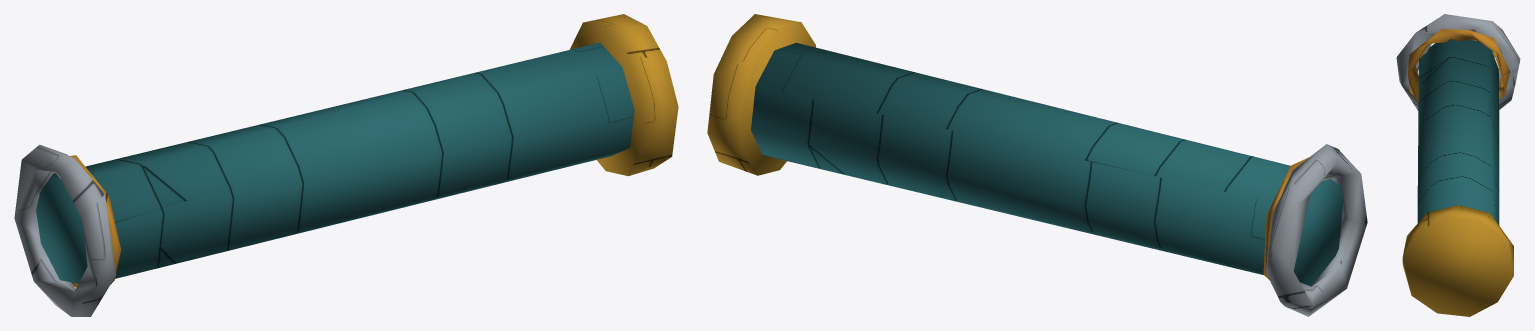
File: pressure_pipe_capped_end_lod2.glb
3 views of the same model, side by side, from view 1: azimuth 30°, elevation 25°; view 2: azimuth 150°, elevation 25°; view 3: azimuth 270°, elevation 25° (orthographic). The views are drawn at different scales.
Parts seen in each view (by area): view 1: LOD2_Armor, LOD2_BrushedMetal, LOD2_Warning, LOD2_Livery; view 2: LOD2_Armor, LOD2_BrushedMetal, LOD2_Warning, LOD2_Livery; view 3: LOD2_Armor, LOD2_Warning, LOD2_BrushedMetal, LOD2_Livery.
Boxes of the visible parts, x1,y1,x2,y2 form: LOD2_Armor: [36, 42, 634, 283]; LOD2_BrushedMetal: [14, 144, 115, 316]; LOD2_Warning: [569, 14, 678, 176]; LOD2_Livery: [53, 155, 121, 287]; LOD2_Armor: [751, 42, 1343, 286]; LOD2_BrushedMetal: [1265, 144, 1367, 316]; LOD2_Warning: [707, 14, 815, 175]; LOD2_Livery: [1263, 157, 1309, 280]; LOD2_Armor: [1417, 39, 1499, 225]; LOD2_Warning: [1402, 205, 1513, 316]; LOD2_BrushedMetal: [1396, 14, 1520, 110]; LOD2_Livery: [1408, 28, 1510, 101].
Bounding box in the file's own units: 4.25 × 1.11 × 1.1.
Materials: 4 (4 with a texture image).
